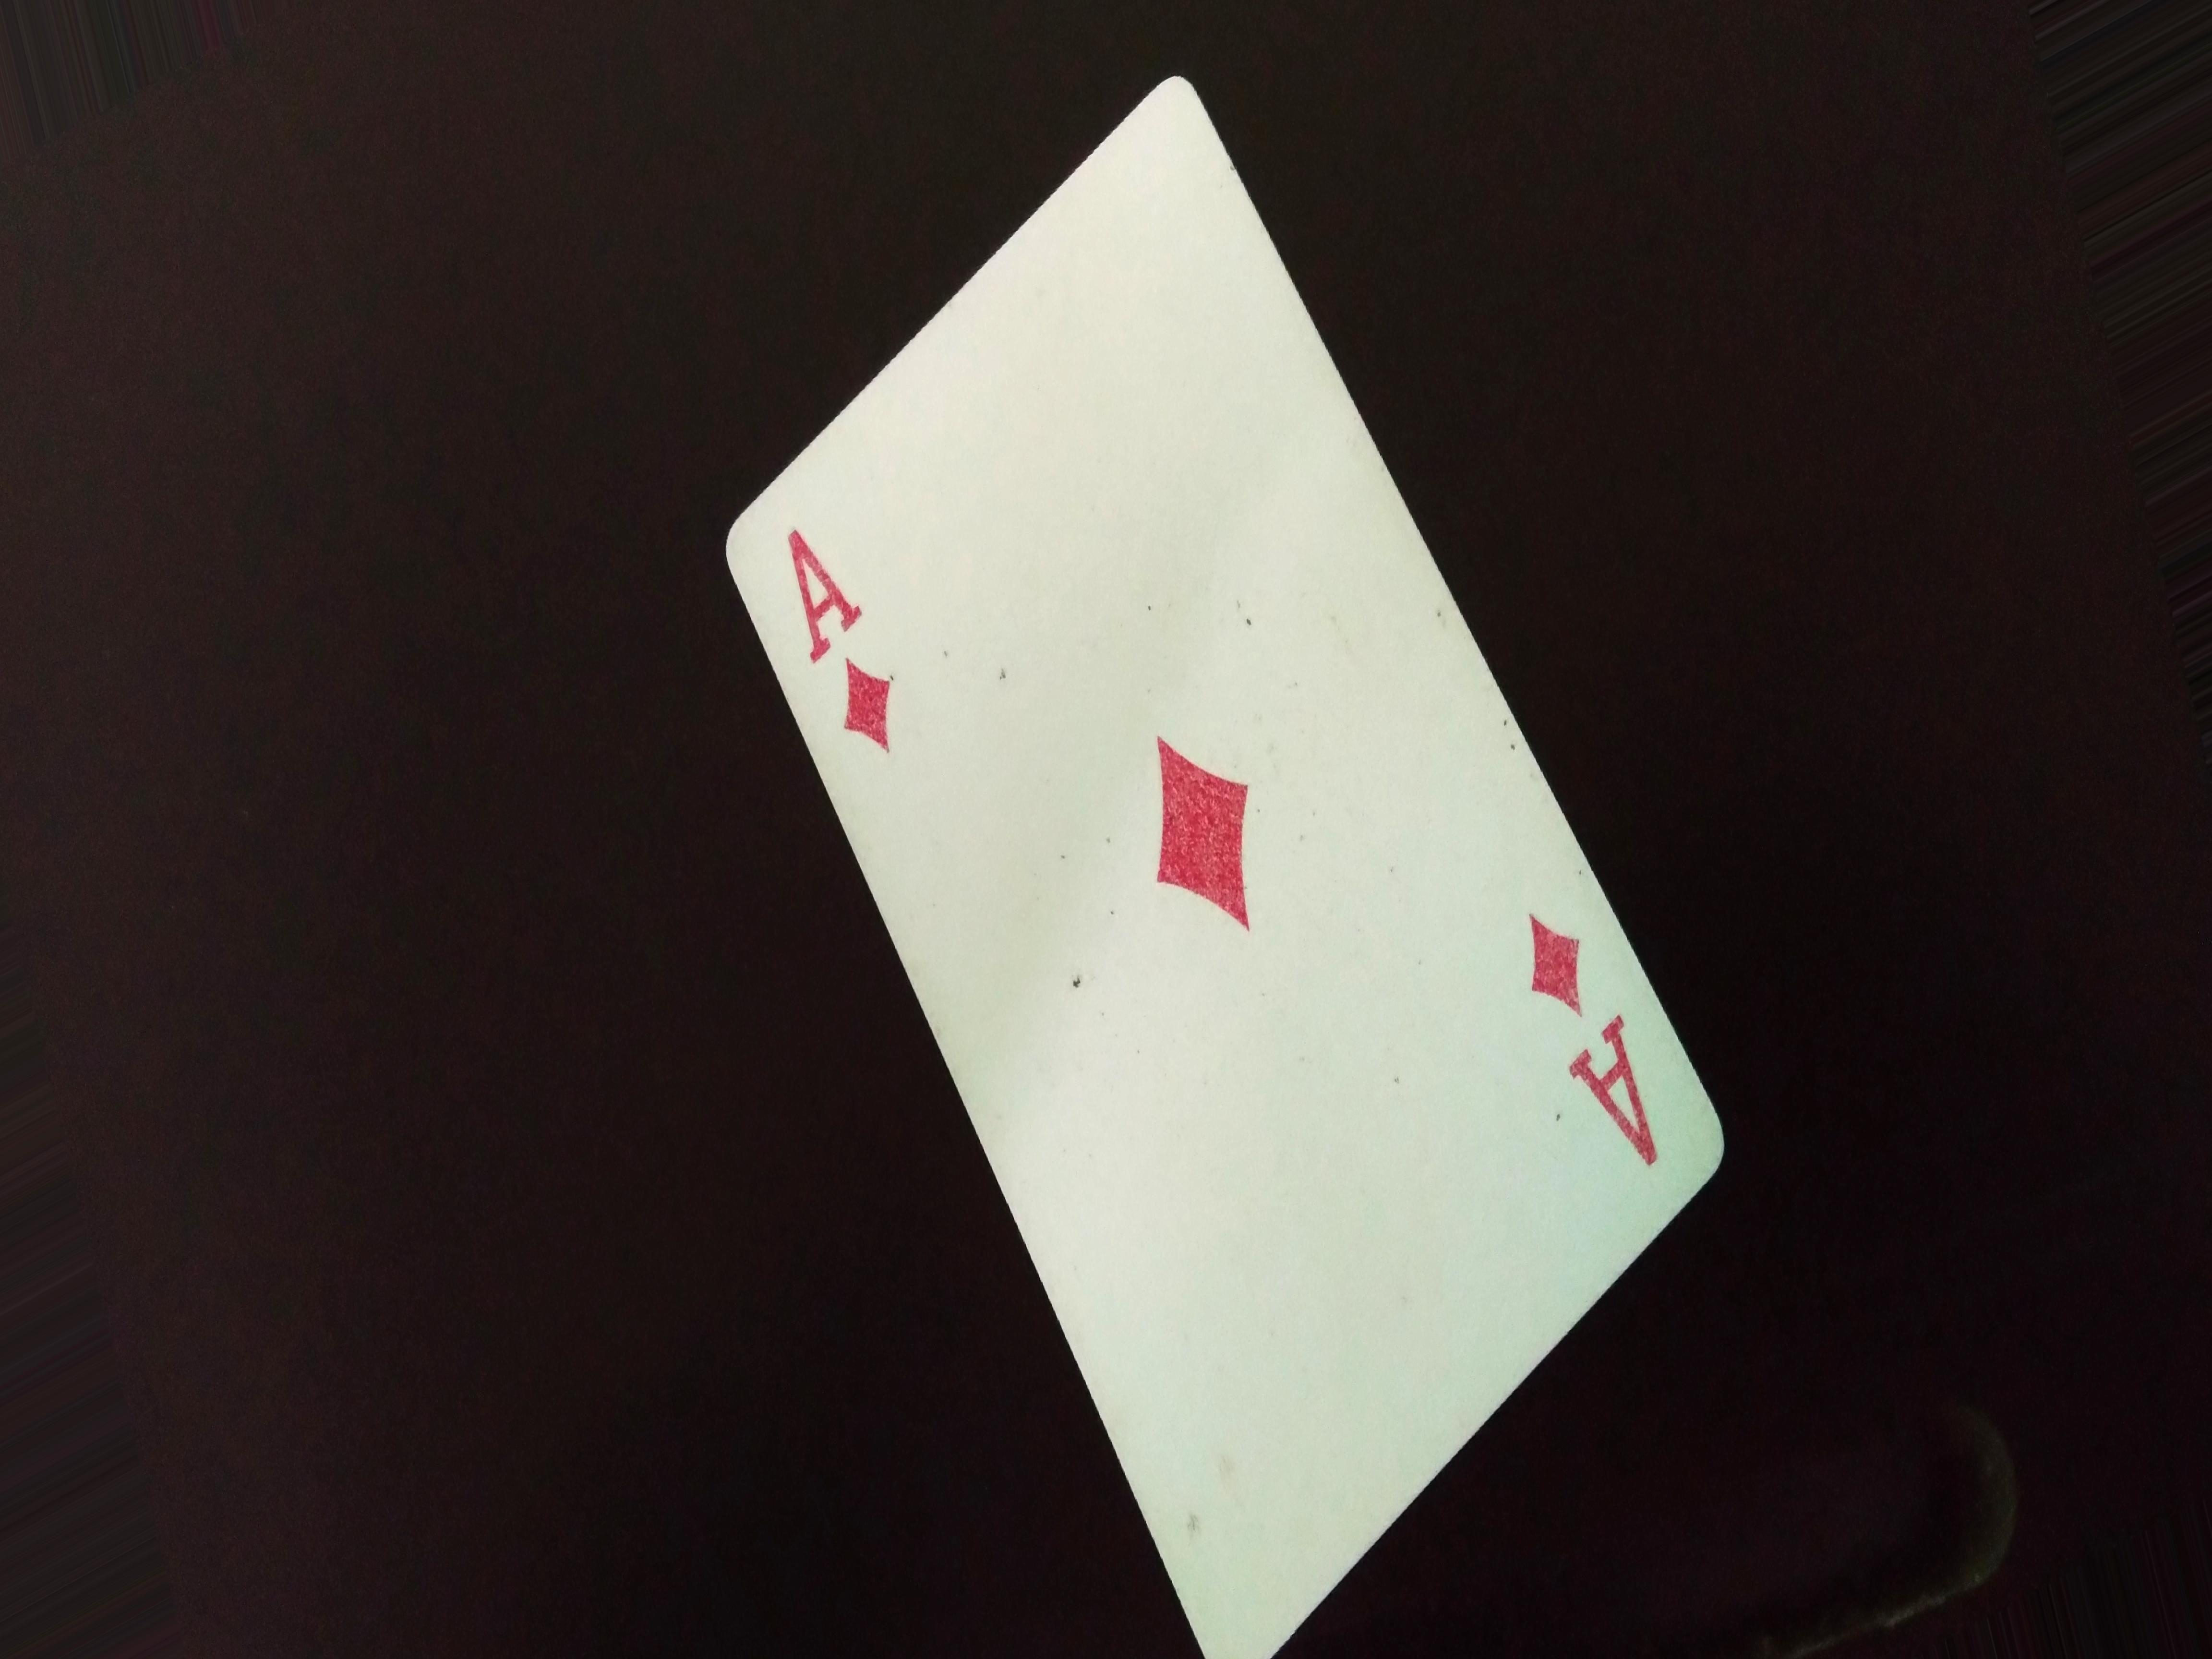AD: (772, 516, 939, 775)
